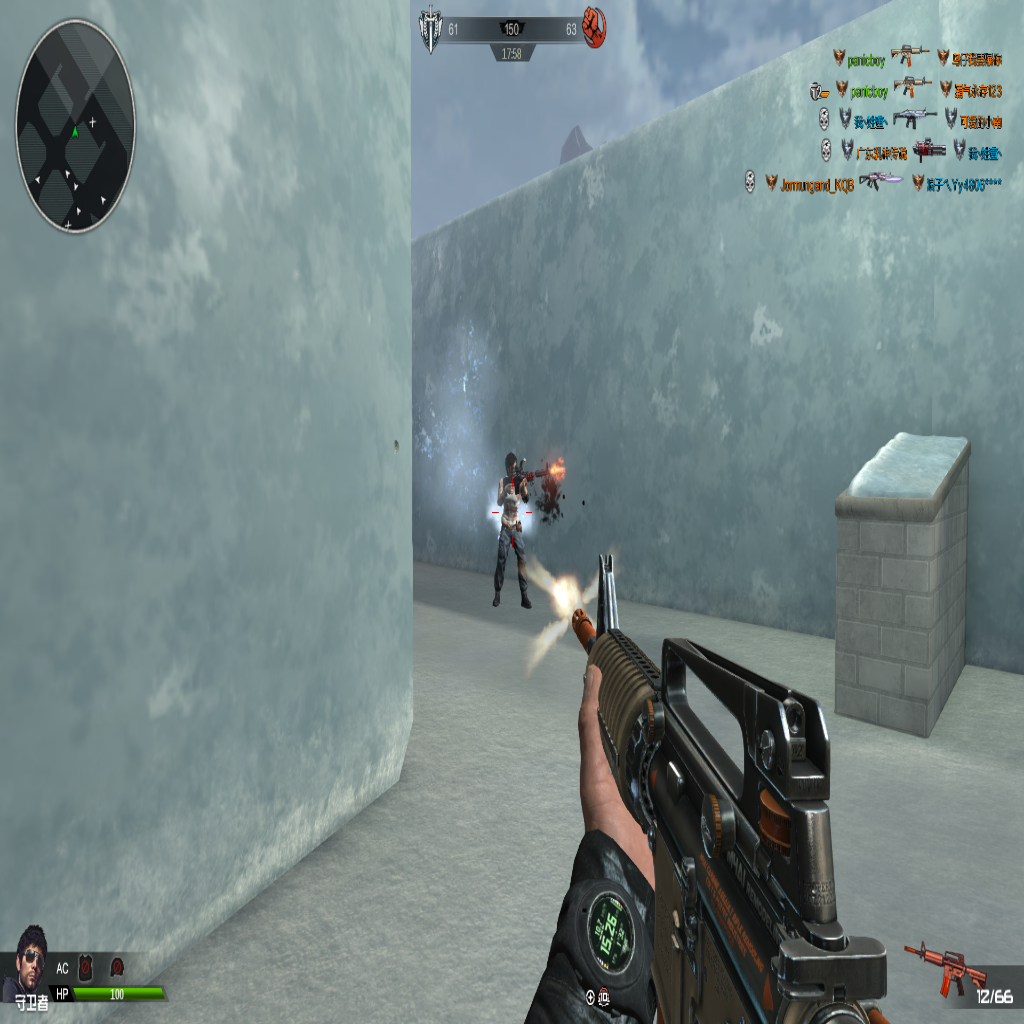tt: (489, 447, 531, 615)
